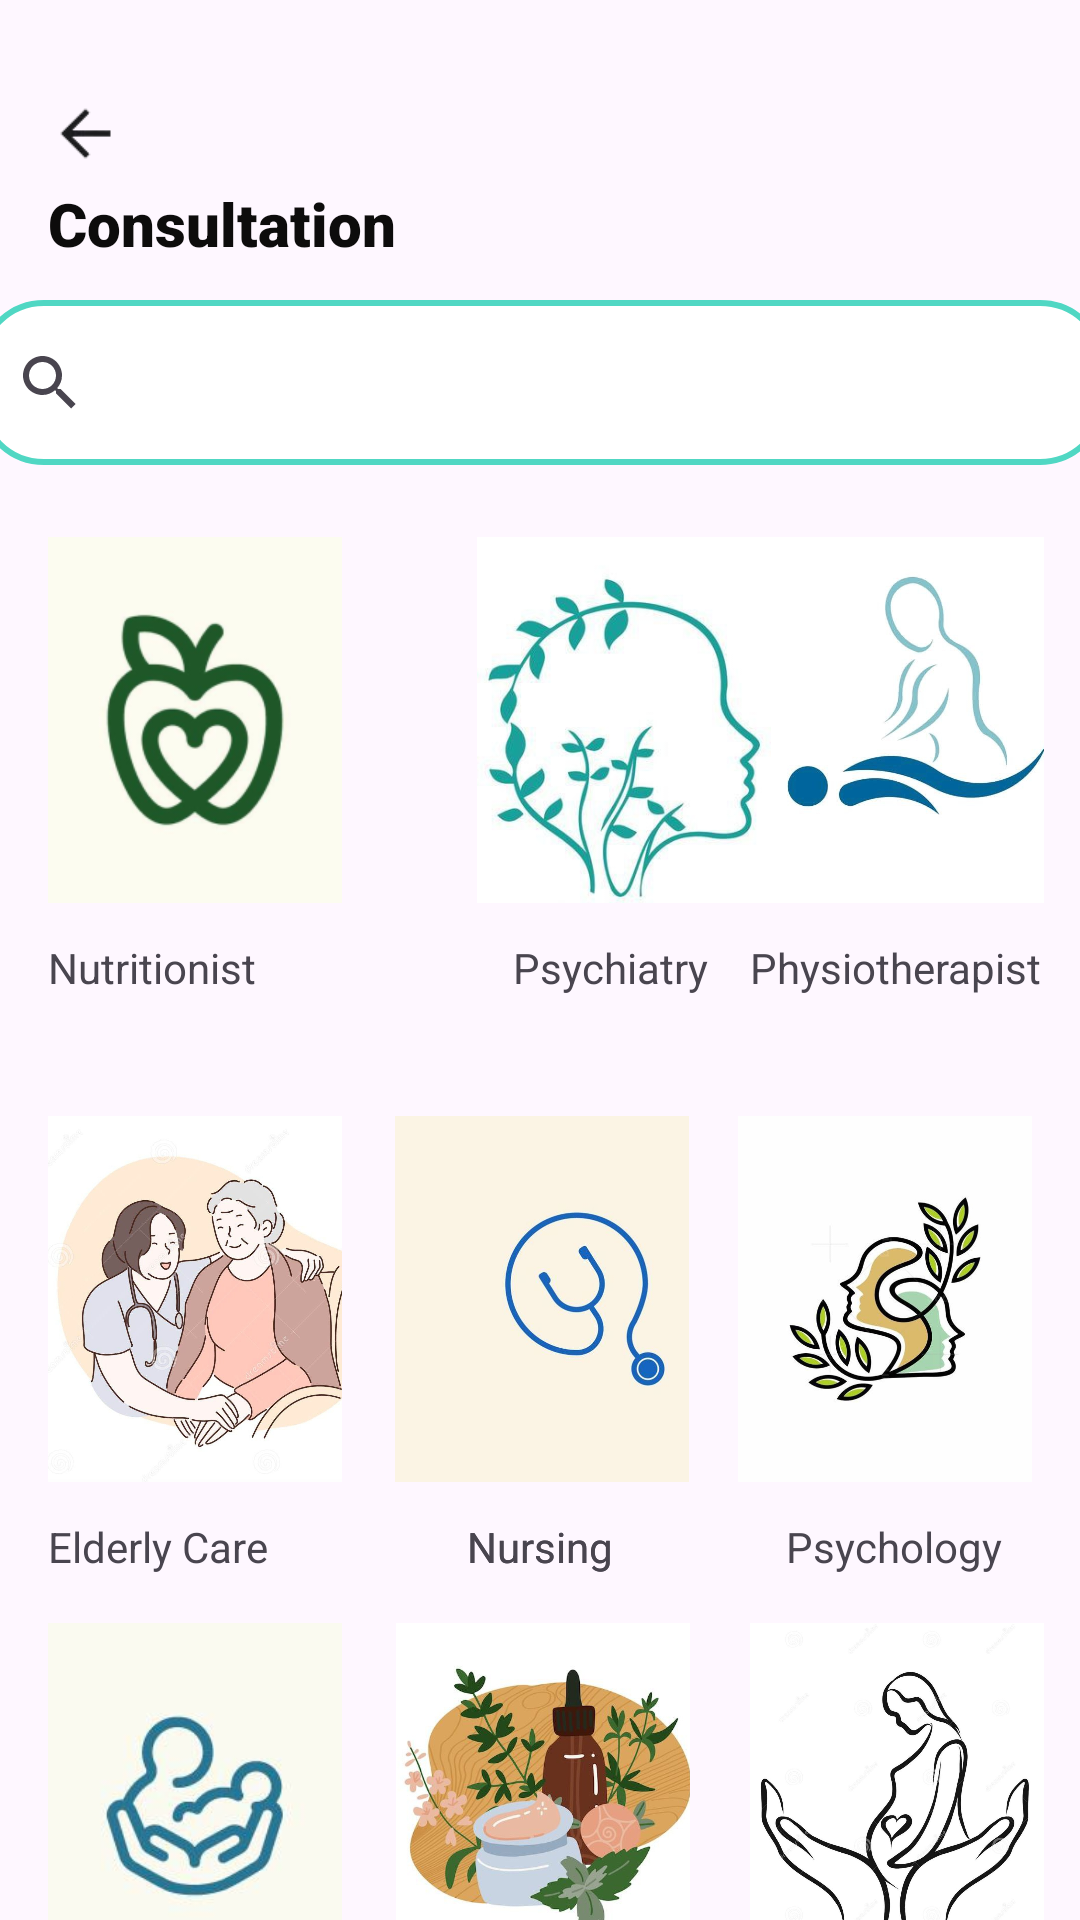

Screen size 1080px x 1920px. Icon name, then its box in pixels as box=[x1, y1, x2, y2]:
Back to home page: box=[60, 109, 111, 159]
